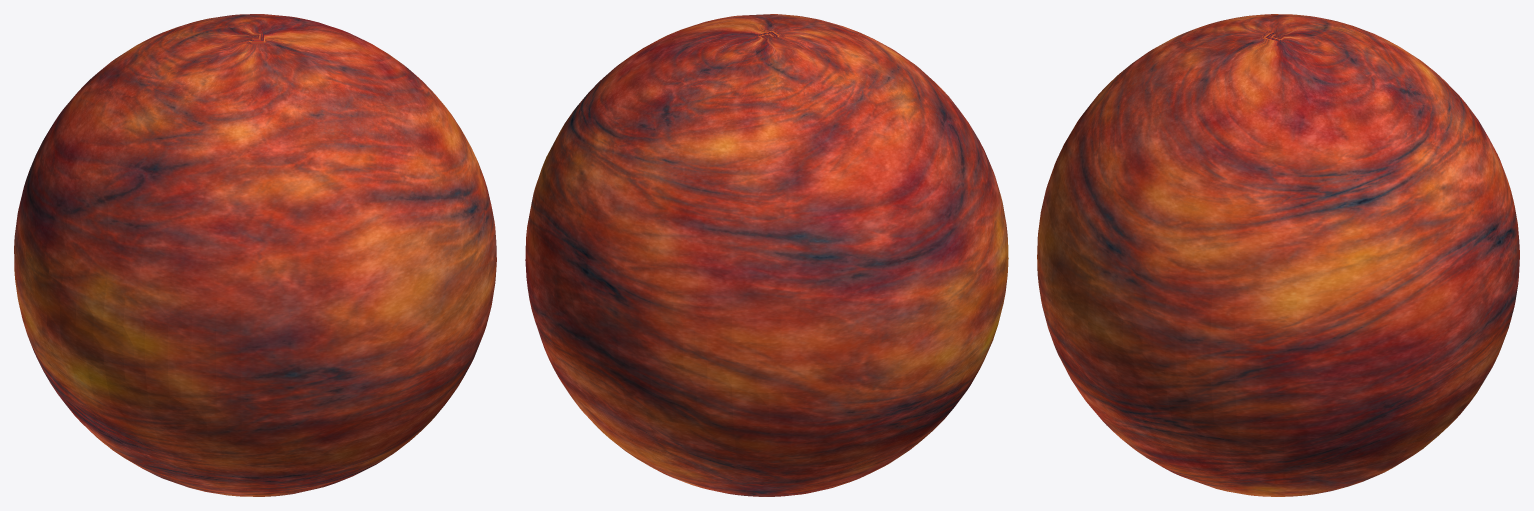
Rendered from Explosion.obj.
The picture shows the model from 3 angles, left to right: view 1: azimuth 30°, elevation 25°; view 2: azimuth 150°, elevation 25°; view 3: azimuth 270°, elevation 25°; orthographic projection.
Parts seen in each view (by area): view 1: Sphere_Plane; view 2: Sphere_Plane; view 3: Sphere_Plane.
Boxes of the visible parts, x1=… form: Sphere_Plane: x1=14, y1=14, x2=496, y2=496; Sphere_Plane: x1=525, y1=14, x2=1008, y2=496; Sphere_Plane: x1=1037, y1=14, x2=1519, y2=496.
Bounding box in the file's own units: 0.9778 × 0.9787 × 0.9782.
1 material, 1 textured.
